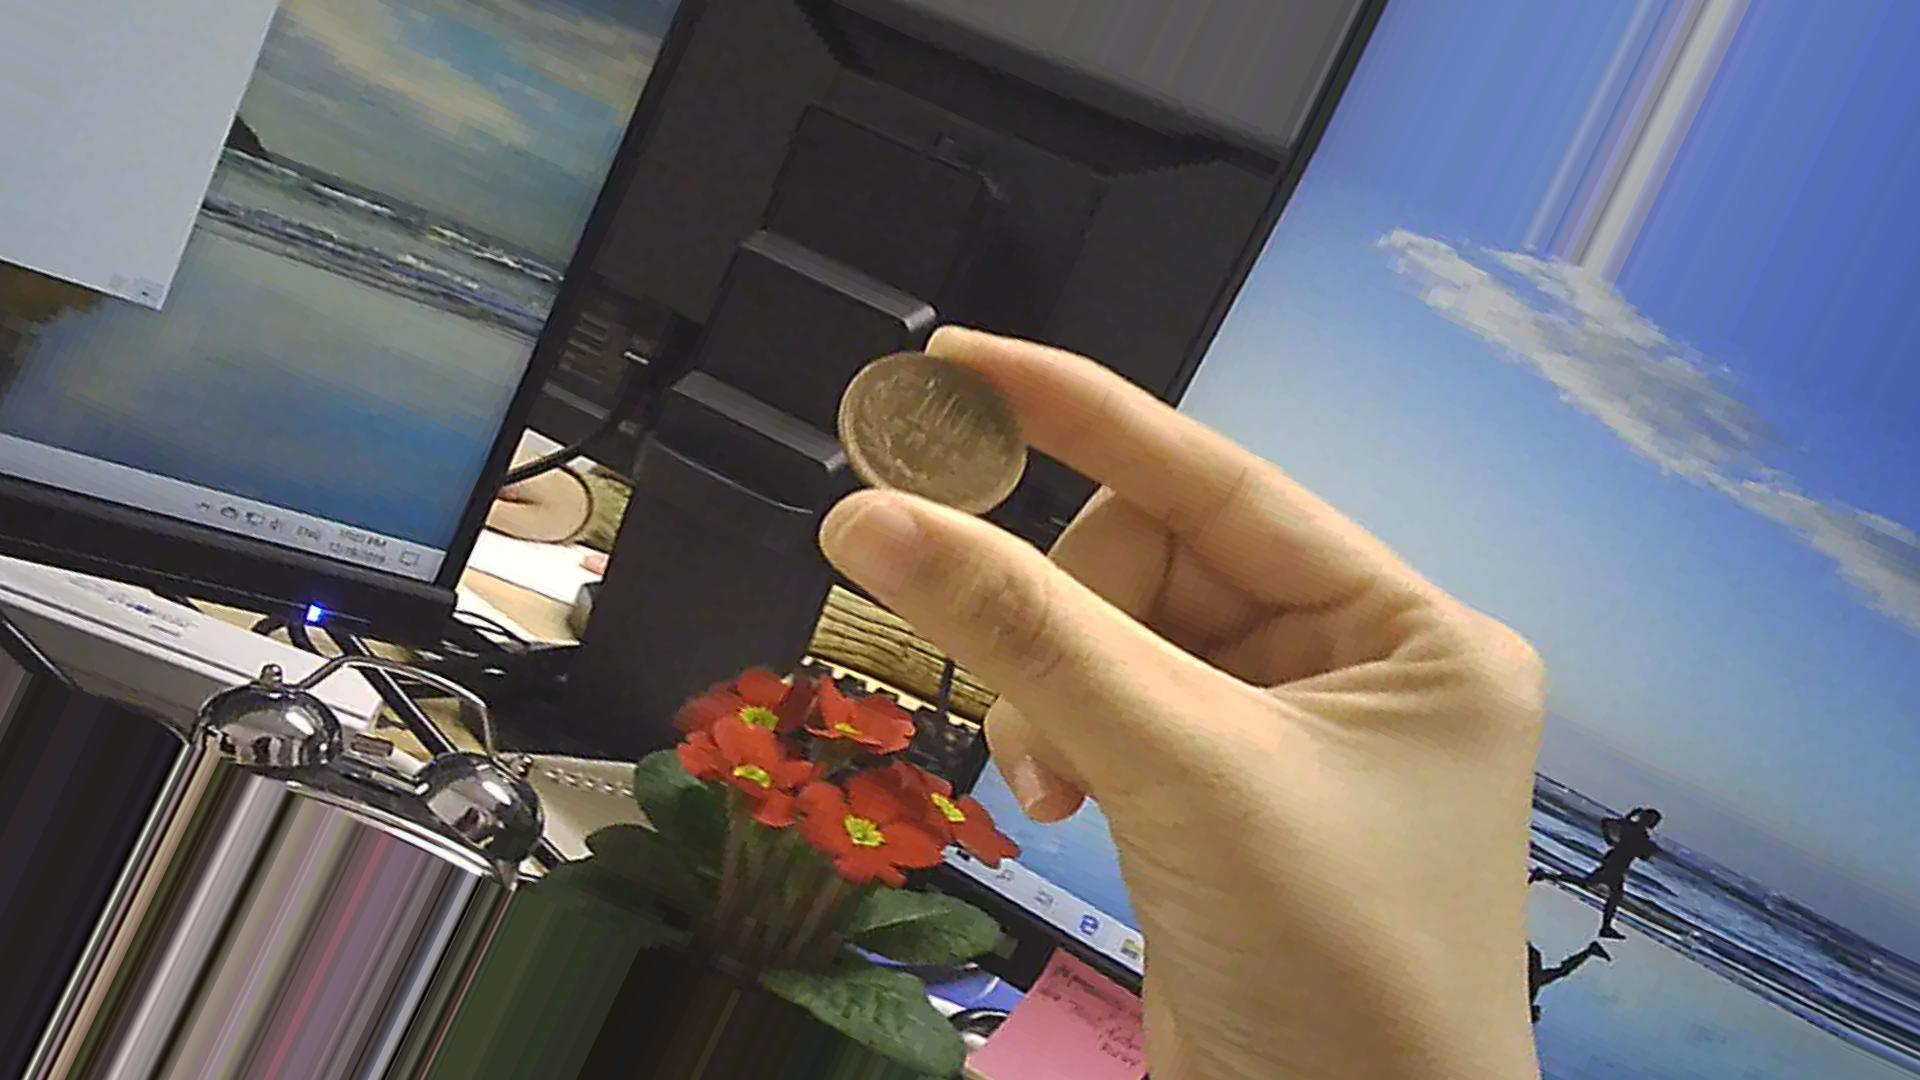10 Yen: (835, 353, 1025, 520)
